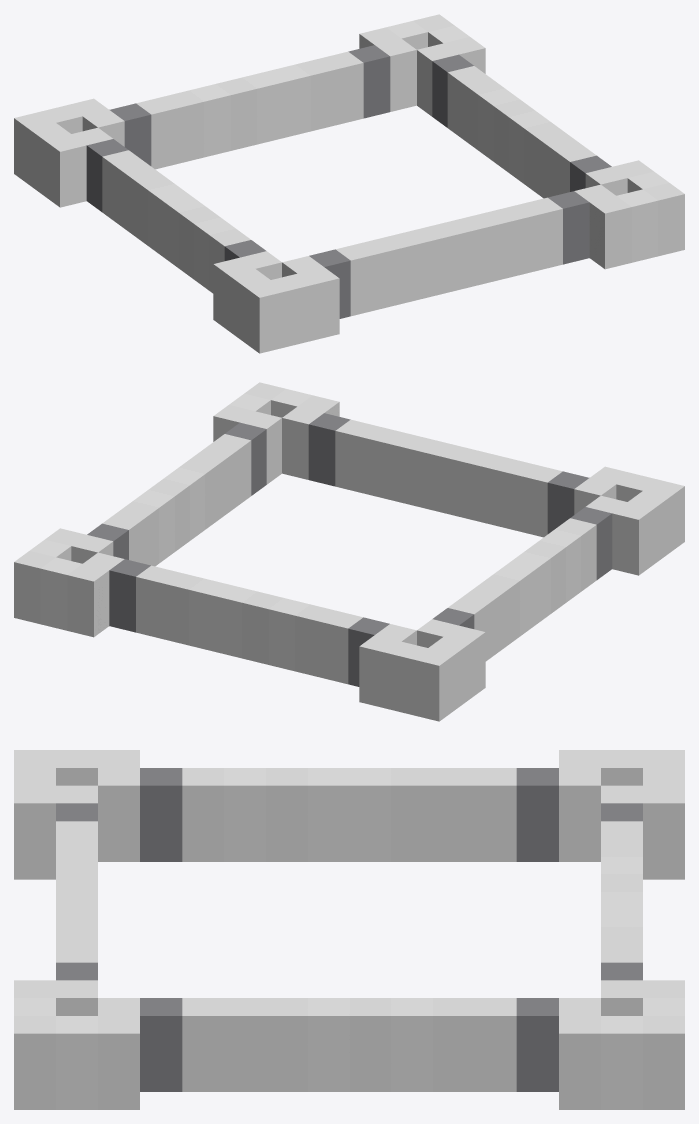
Rendered from fortress.glb.
The picture shows the model from 3 angles, top to bottom: view 1: azimuth 30°, elevation 25°; view 2: azimuth 150°, elevation 25°; view 3: azimuth 270°, elevation 25°; orthographic projection. The views are drawn at different scales.
Visible parts, largest first — view 1: Grid; view 2: Grid; view 3: Grid.
Part boxes in pixels (x1,y1,x2,y2): Grid: [14, 14, 684, 353]; Grid: [14, 382, 684, 721]; Grid: [14, 750, 684, 1109].
Size of the model in its own units: 0.9975 by 0.125 by 0.9975.
Materials: 1 (1 with a texture image).
